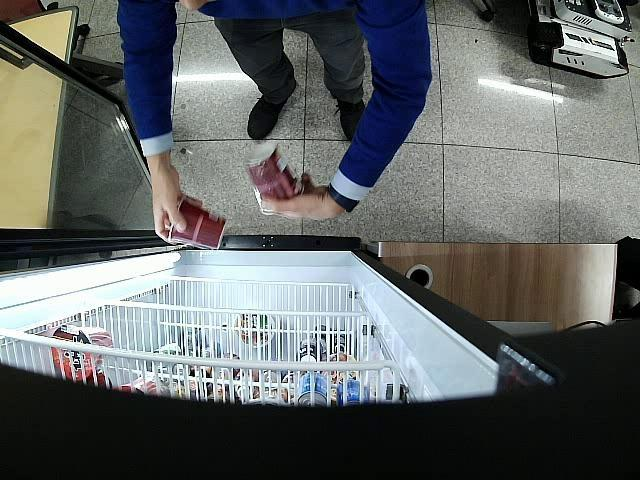06_nuguri_S: (246, 140, 304, 214), (168, 194, 228, 250)
